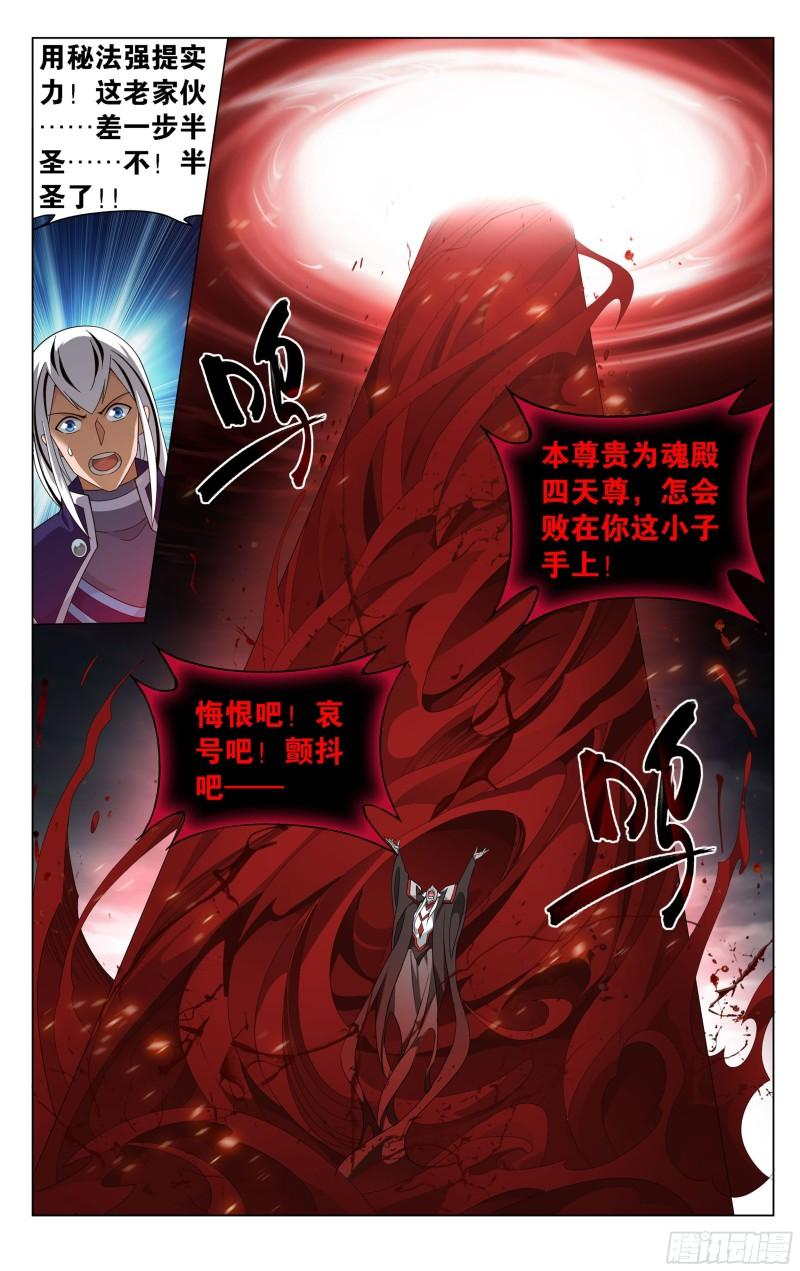boxBad: (480, 377, 774, 637), (132, 643, 408, 853)
boxBomb: (27, 32, 231, 227)
minBox: (18, 26, 780, 1222), (18, 29, 231, 631)
